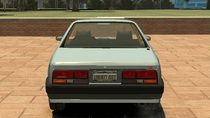car: (49, 18, 162, 115)
